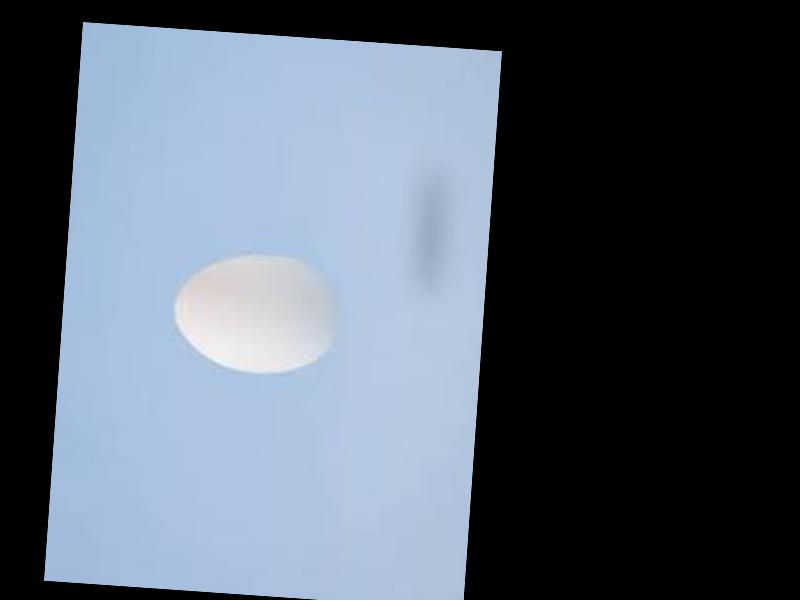Eggs: (169, 247, 345, 378)
